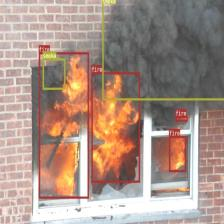fire: (38, 52, 89, 198), (91, 72, 140, 182), (169, 135, 186, 172), (176, 116, 188, 121)
smoke: (101, 0, 224, 99), (42, 58, 65, 90)
